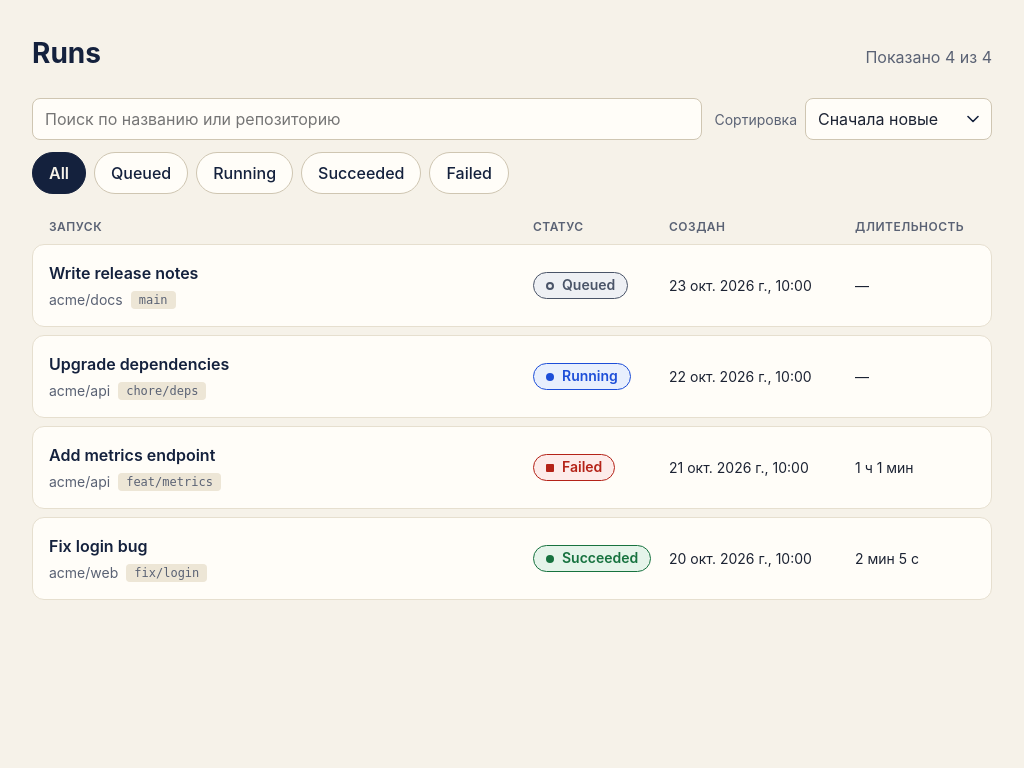
RunsPage › closes details with Escape and shows a placeholder when there is no result
Click the button "Upgrade dependencies".
click(139, 364)  # box [32,335,992,418]
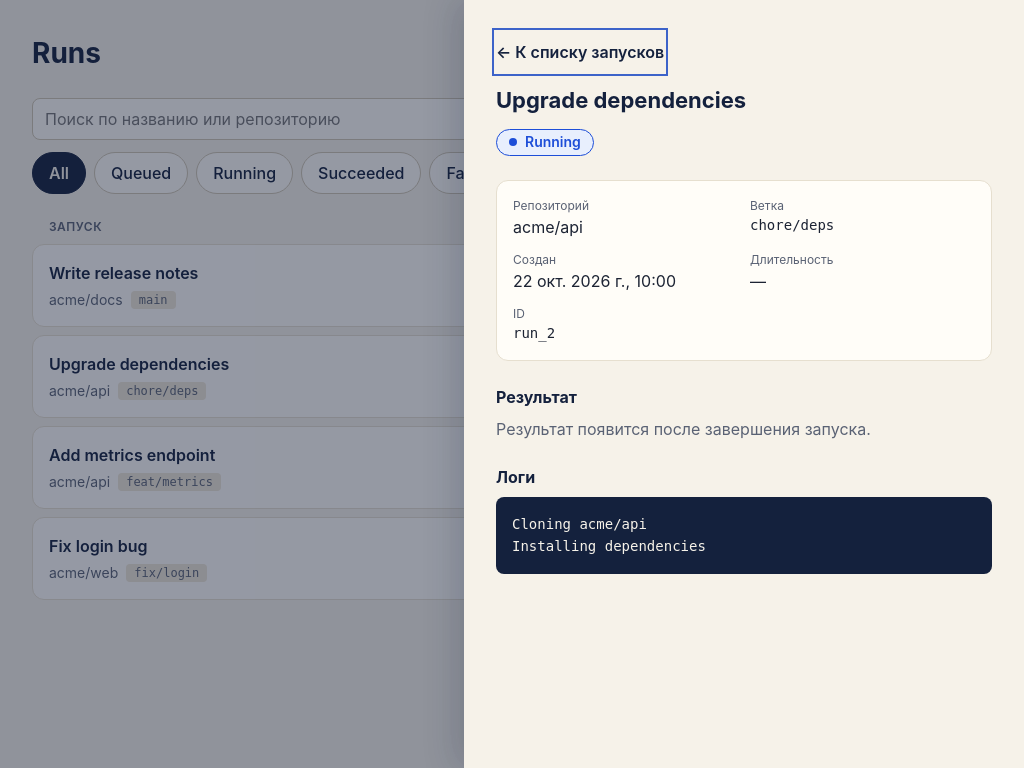
Expected: the text "Результат появится после завершения запуска." is shown, [496,419,871,439]
Expected: the text "—" is shown, [750,271,766,291]
Press Escape
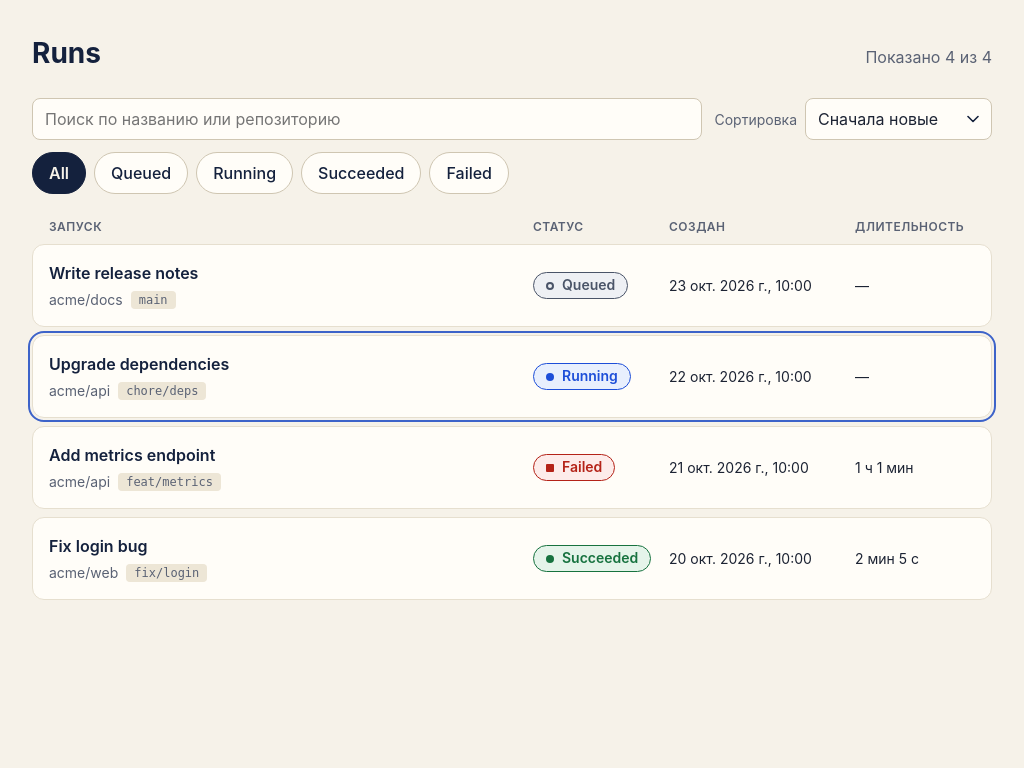
Expected: the dialog is gone
